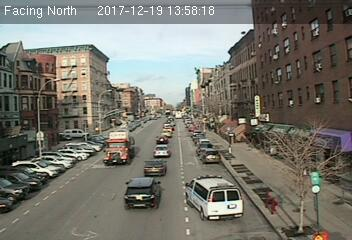car: (122, 177, 163, 211), (143, 158, 166, 175), (201, 149, 220, 163), (153, 144, 171, 158), (155, 136, 169, 144)
police: (183, 174, 245, 224)
truck: (103, 128, 132, 166)
